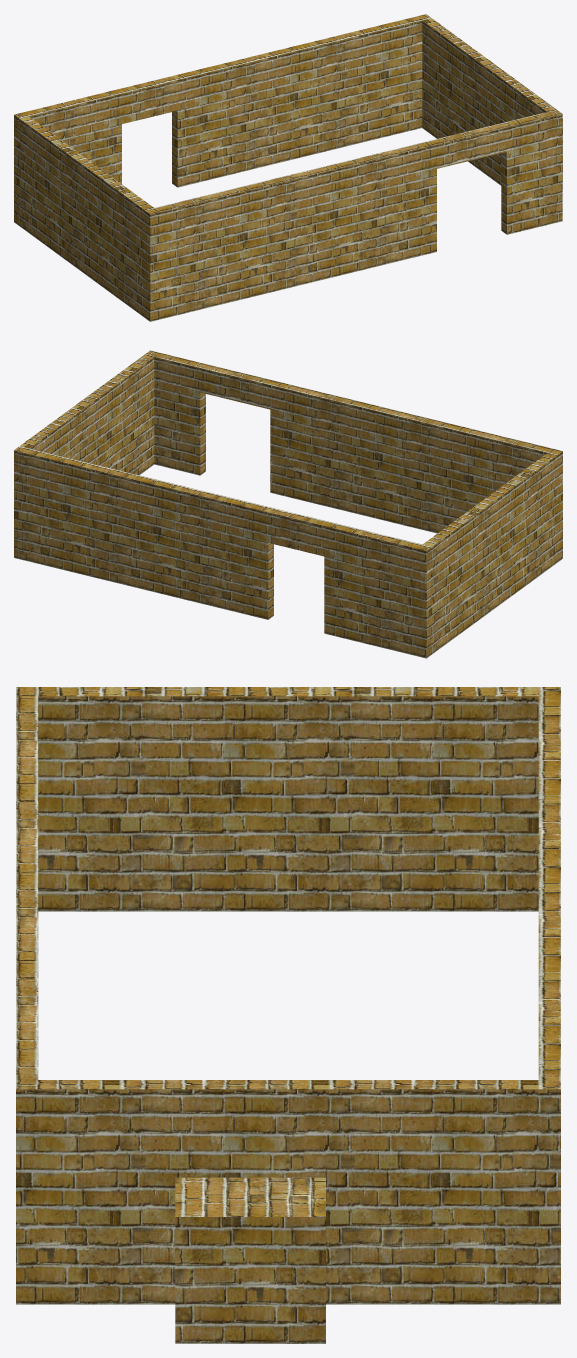
File: test_house.dae
The picture shows the model from 3 angles, top to bottom: view 1: azimuth 30°, elevation 25°; view 2: azimuth 150°, elevation 25°; view 3: azimuth 270°, elevation 25°; orthographic projection. The views are drawn at different scales.
Parts seen in each view (by area): view 1: group_0; view 2: group_0; view 3: group_0.
Boxes of the visible parts, x1,y1,x2,y2 form: group_0: [14, 14, 562, 321]; group_0: [14, 350, 562, 658]; group_0: [16, 687, 560, 1343].
Bounding box in the file's own units: 393 × 205 × 89.37.
Materials: 1 (1 with a texture image).
